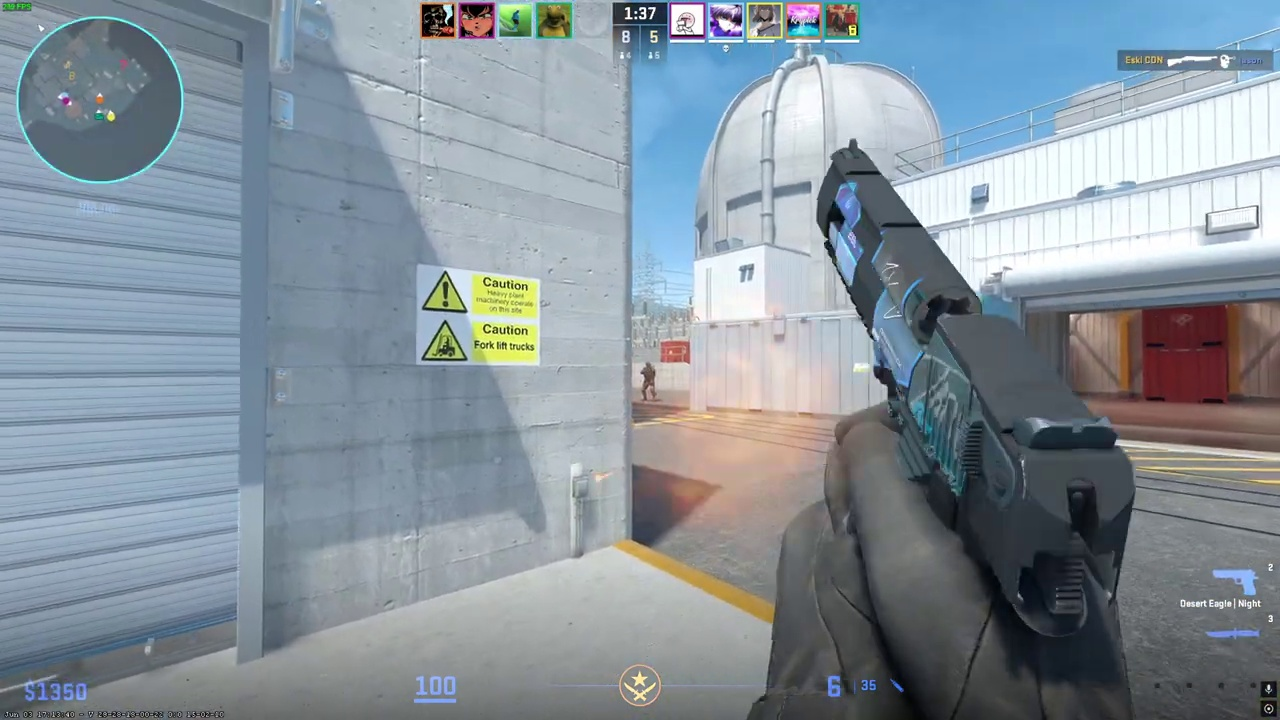CT: (640, 362, 657, 401)
